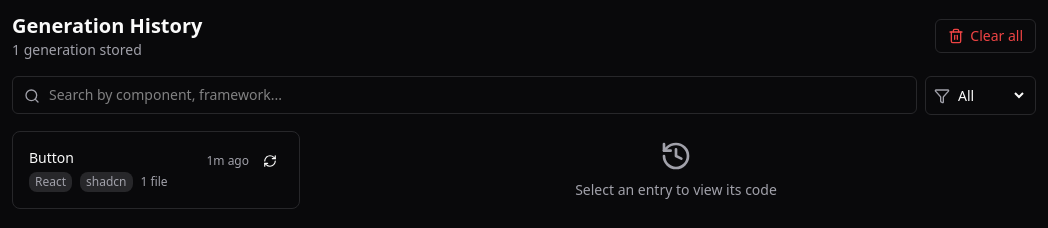
Test: HistoryPage › selects entry on click and shows file tabs
The width and height of the screenshot is (1048, 228).
What coordinates should you click on to do the following:
click the button "Button react shadcn 1 file 1m ago"
I would click on:
 (156, 170)
Its box is [12, 131, 300, 209].
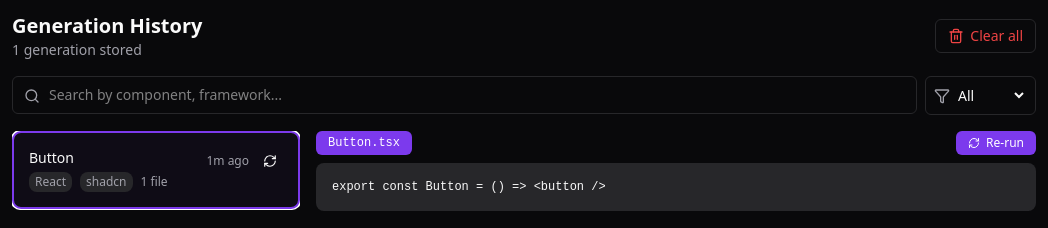
Check: the button "Button.tsx" is shown, box [316, 131, 412, 155]
Check: the text "export const Button = () => <button />" is shown, box [332, 180, 606, 194]
